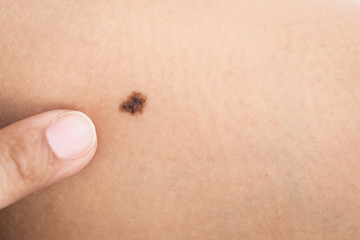melanoma: (107, 81, 159, 122)
